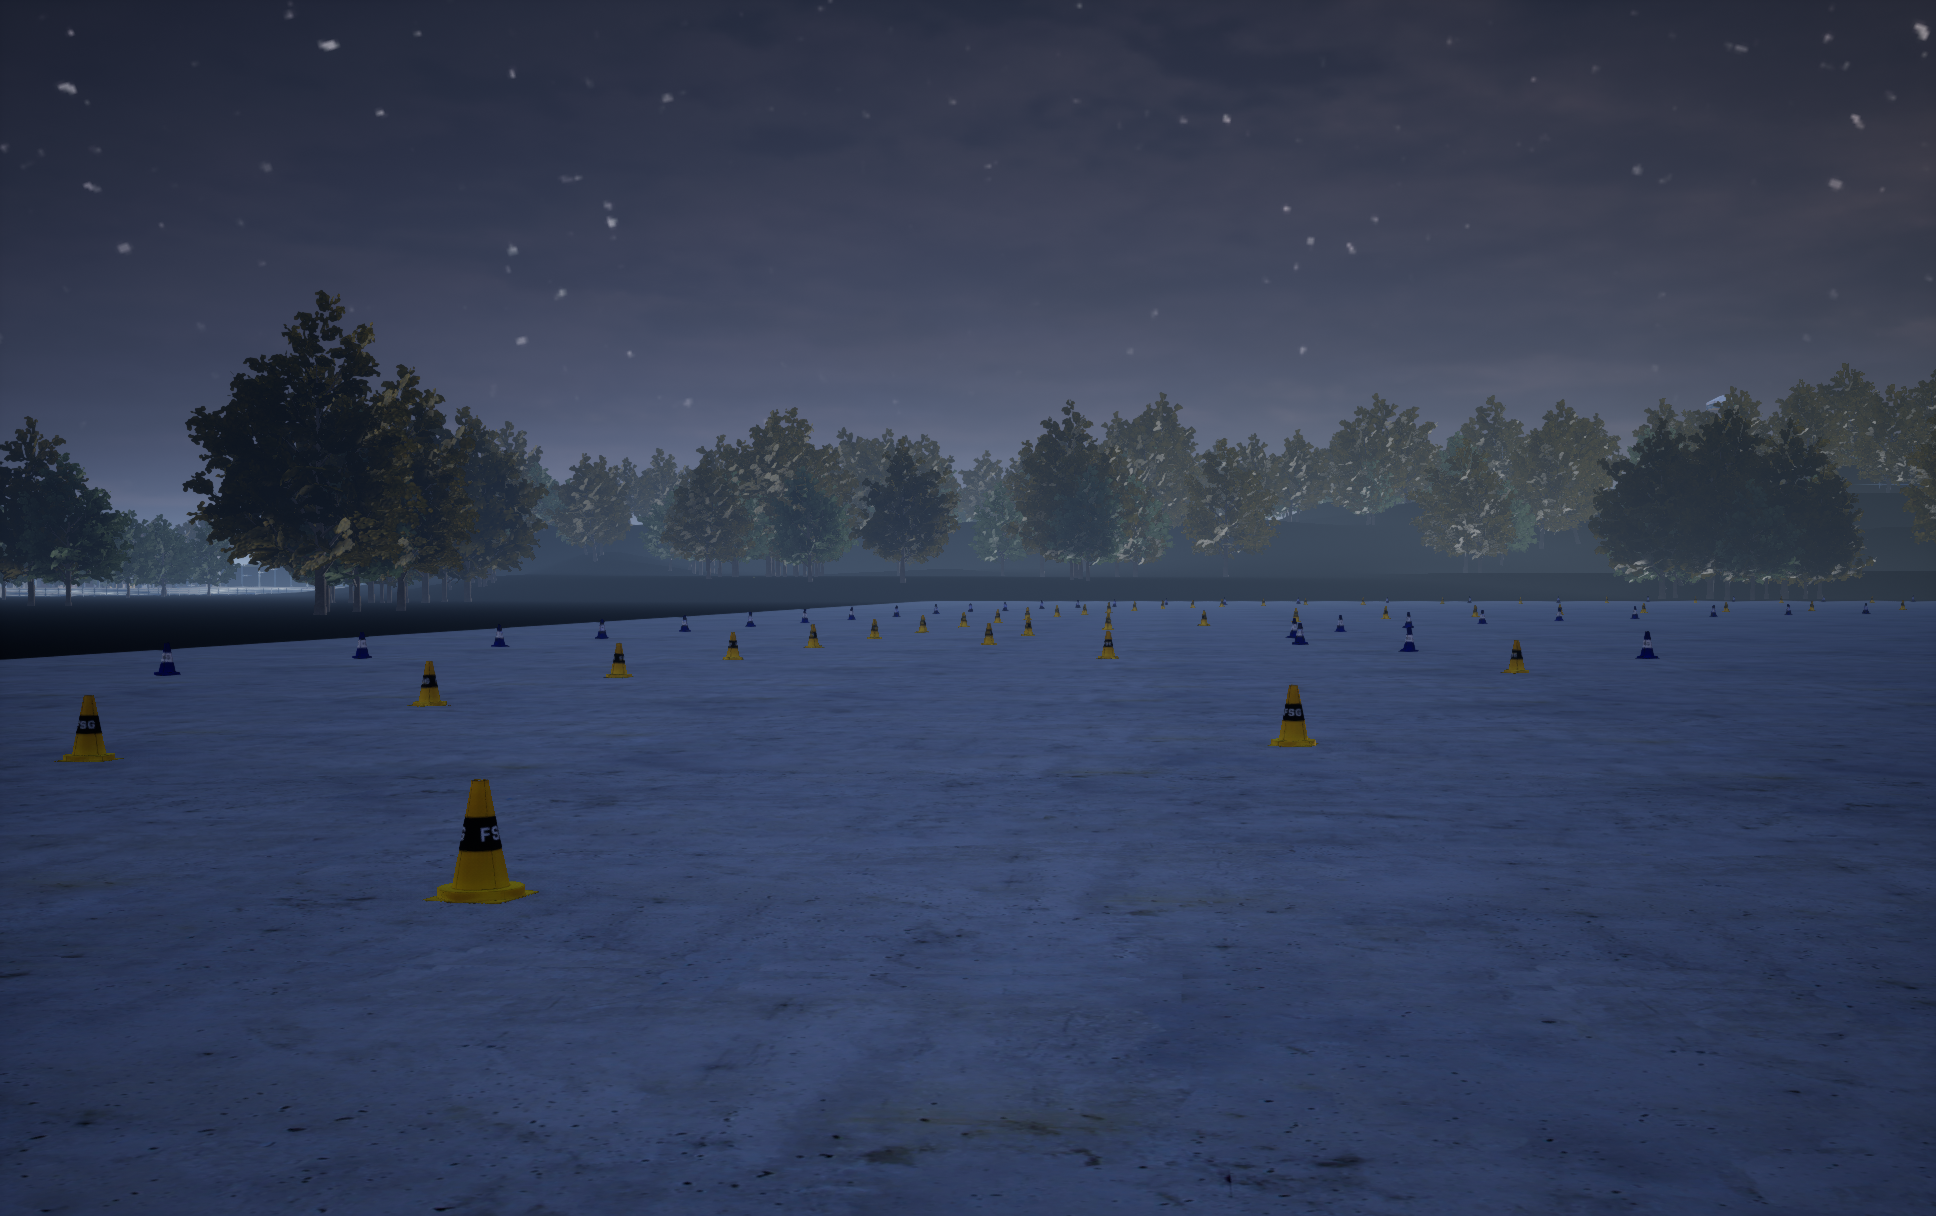blue: (422, 779, 538, 904), (55, 695, 123, 761), (1266, 685, 1318, 747), (408, 661, 450, 706), (602, 643, 633, 677), (1500, 640, 1528, 672), (1095, 630, 1118, 658), (721, 632, 742, 658), (803, 623, 824, 647), (981, 623, 996, 644), (867, 619, 881, 637), (1021, 616, 1034, 635)
yellow: (154, 642, 179, 675), (1635, 630, 1659, 658), (352, 632, 371, 658), (1398, 628, 1418, 651), (490, 623, 509, 646), (1292, 623, 1308, 644), (595, 619, 608, 637), (1285, 618, 1296, 637)
